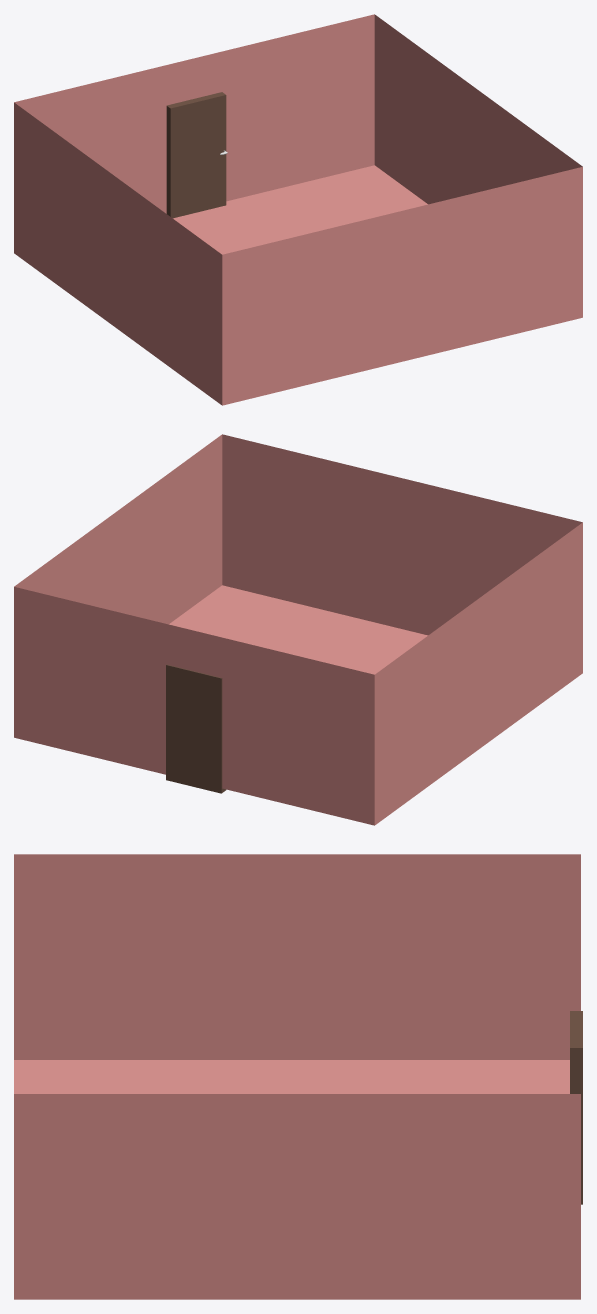
The model's file is room-empty-fix2.fbx.
The picture shows the model from 3 angles, top to bottom: view 1: azimuth 30°, elevation 25°; view 2: azimuth 150°, elevation 25°; view 3: azimuth 270°, elevation 25°; orthographic projection. The views are drawn at different scales.
Visible parts, largest first — view 1: Cube, Cube.001; view 2: Cube, Cube.001; view 3: Cube, Cube.001.
Part boxes in pixels (x1,y1,x2,y2): Cube: (14,14,582,405); Cube.001: (166,92,226,218); Cube: (14,434,582,825); Cube.001: (166,664,226,793); Cube: (14,854,580,1299); Cube.001: (570,1011,582,1204).
Size of the model in its own units: 918 by 379 by 921.
